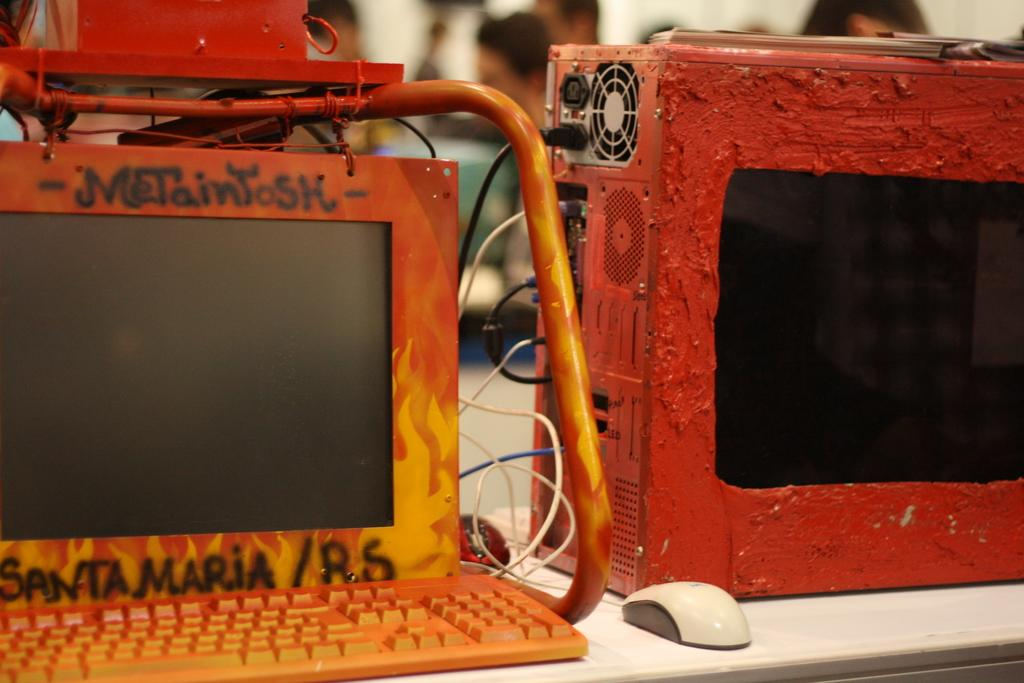Computer-mouse: (619, 577, 755, 651)
